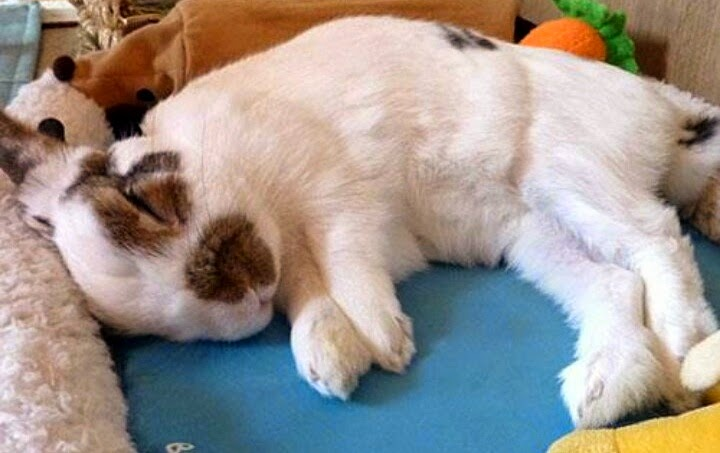bunny: (12, 19, 720, 426)
